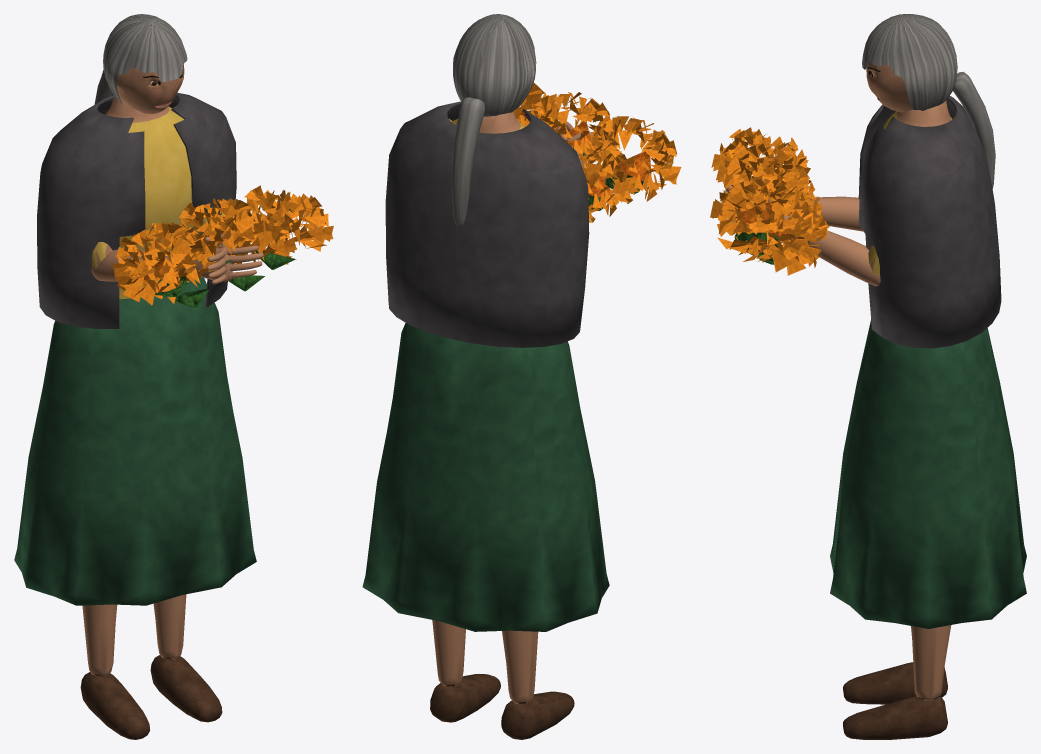
Rendered from persona_mujer_flores_medio.obj.
3 views of the same model, side by side, from view 1: azimuth 30°, elevation 25°; view 2: azimuth 150°, elevation 25°; view 3: azimuth 270°, elevation 25° (orthographic).
Visible parts, largest first — view 1: persona_mujer_flores, Flor_Cempasuchil.001, Flor_Cempasuchil.003, Flor_Cempasuchil.002, Flor_Cempasuchil.005, Flor_Cempasuchil.004; view 2: persona_mujer_flores, Flor_Cempasuchil.001, Flor_Cempasuchil.002, Flor_Cempasuchil.004, Flor_Cempasuchil.003; view 3: persona_mujer_flores, Flor_Cempasuchil.003, Flor_Cempasuchil.002, Flor_Cempasuchil.005, Flor_Cempasuchil.001.
Part boxes in pixels (<box>): persona_mujer_flores: <box>14,14,263,739</box>; Flor_Cempasuchil.001: <box>112,222,205,305</box>; Flor_Cempasuchil.003: <box>231,185,333,269</box>; Flor_Cempasuchil.002: <box>173,198,266,266</box>; Flor_Cempasuchil.005: <box>206,212,296,291</box>; Flor_Cempasuchil.004: <box>139,233,218,307</box>; persona_mujer_flores: <box>362,14,609,739</box>; Flor_Cempasuchil.001: <box>578,116,681,203</box>; Flor_Cempasuchil.002: <box>524,92,617,161</box>; Flor_Cempasuchil.004: <box>569,141,636,222</box>; Flor_Cempasuchil.003: <box>513,82,559,126</box>; persona_mujer_flores: <box>723,14,1026,739</box>; Flor_Cempasuchil.003: <box>710,175,815,272</box>; Flor_Cempasuchil.002: <box>716,143,811,219</box>; Flor_Cempasuchil.005: <box>731,184,829,275</box>; Flor_Cempasuchil.001: <box>711,127,810,195</box>.
Size of the model in its own units: 0.5356 by 1.62 by 0.6618.
15 materials, 15 textured.
